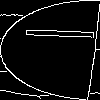I: (25, 25, 100, 43)
